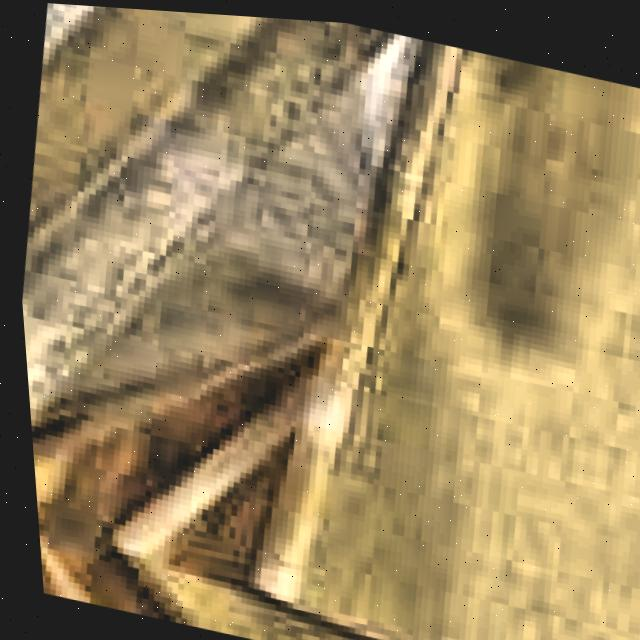paper: (0, 0, 640, 640), (17, 5, 640, 640)
